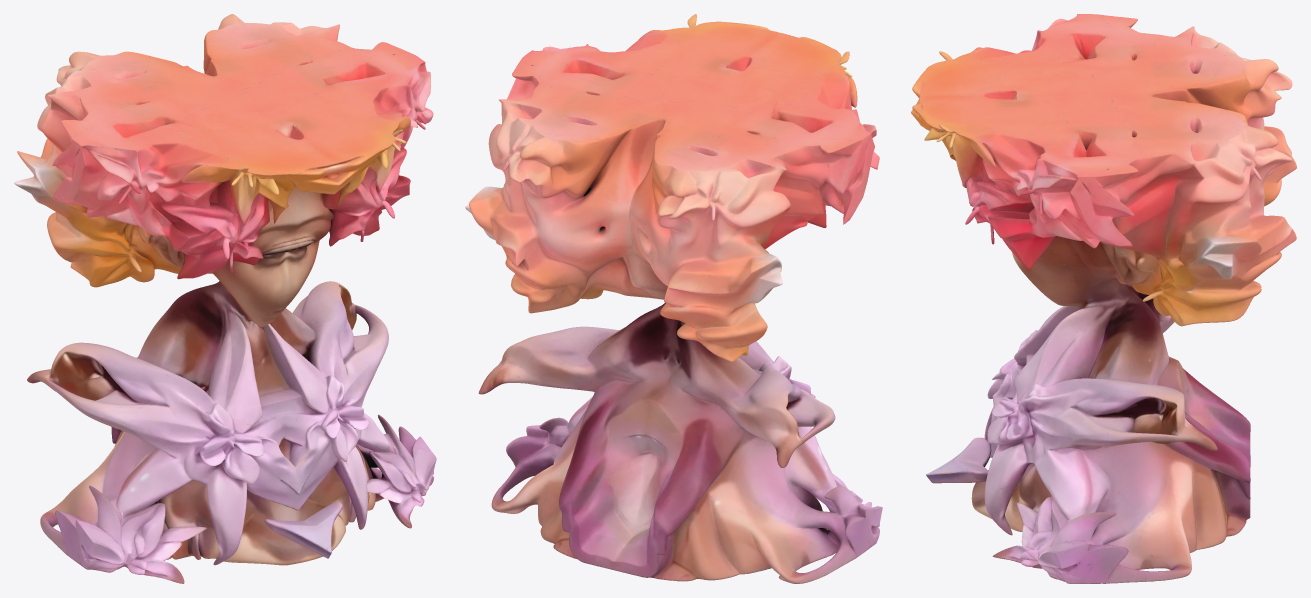
File: tree.glb
The picture shows the model from 3 angles, left to right: view 1: azimuth 30°, elevation 25°; view 2: azimuth 150°, elevation 25°; view 3: azimuth 270°, elevation 25°; orthographic projection. The views are drawn at different scales.
Visible parts, largest first — view 1: model; view 2: model; view 3: model.
Boxes of the visible parts, x1=… form: model: x1=14, y1=14, x2=436, y2=583; model: x1=465, y1=14, x2=882, y2=583; model: x1=911, y1=14, x2=1296, y2=583.
Size of the model in its own units: 1.43 by 1.7 by 1.43.
1 material, 1 textured.
